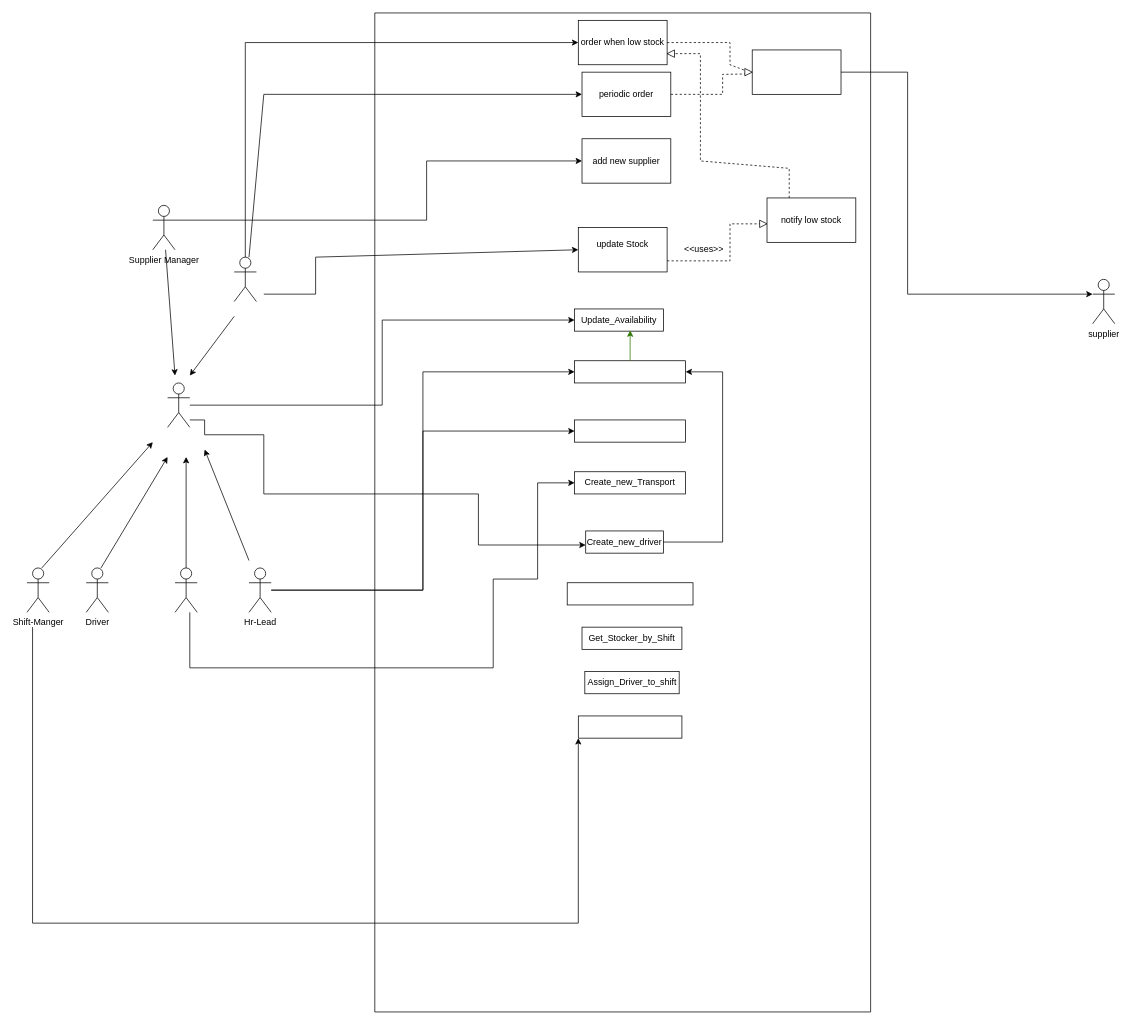
Image size: 1132x1025. Some labels were removed from this diagram. Each missing label, with the centre of its shape:
"Add_Employee_to_Shift" goes at (x=630, y=726).
"Add_Employee_to_System" goes at (x=630, y=371).
"Check_Stocker_Availability" goes at (x=629, y=593).
"Employee" goes at (x=178, y=404).
"send order" goes at (x=796, y=71).
"StockManager" goes at (x=244, y=279).
"Transport-Manager" goes at (x=185, y=589).
"Update_Employee_Details" goes at (x=630, y=430).
